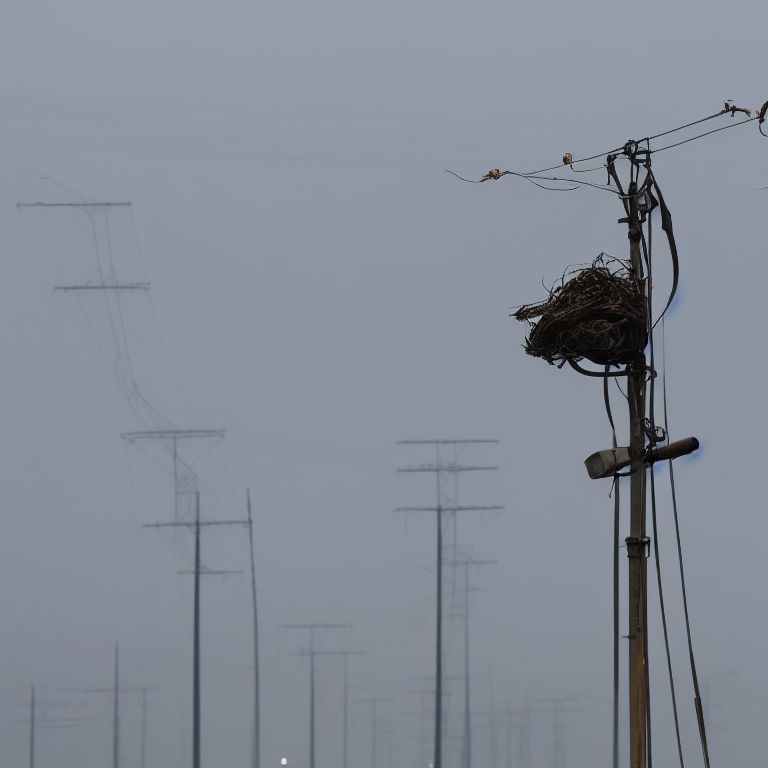nest: (522, 260, 645, 363)
